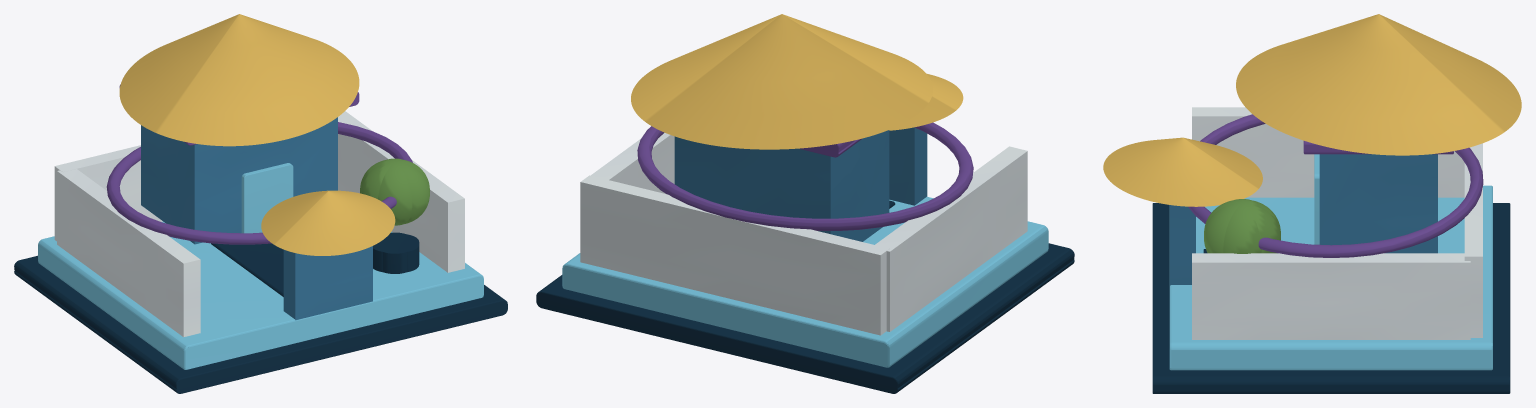
File: 0397_欧洲文明图鉴_18世纪巴黎街道.glb
3 views of the same model, side by side, from view 1: azimuth 30°, elevation 25°; view 2: azimuth 150°, elevation 25°; view 3: azimuth 270°, elevation 25° (orthographic). The views are drawn at different scales.
Visible parts, largest first — view 1: card_0397; view 2: card_0397; view 3: card_0397.
Boxes of the visible parts, bbox=[...] form: card_0397: bbox=[14, 14, 507, 393]; card_0397: bbox=[536, 14, 1074, 393]; card_0397: bbox=[1103, 14, 1521, 393].
Bounding box in the file's own units: 1.31 × 1 × 1.29.
